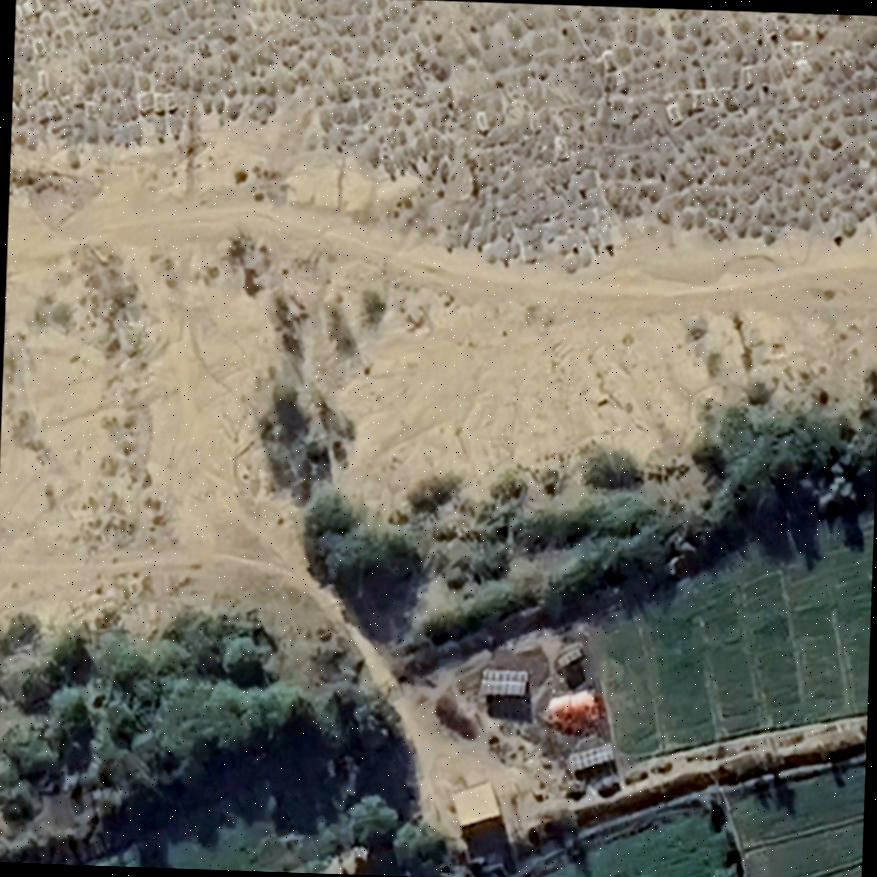Solarpanel: (472, 663, 535, 700), (561, 740, 617, 776), (554, 645, 586, 670)
